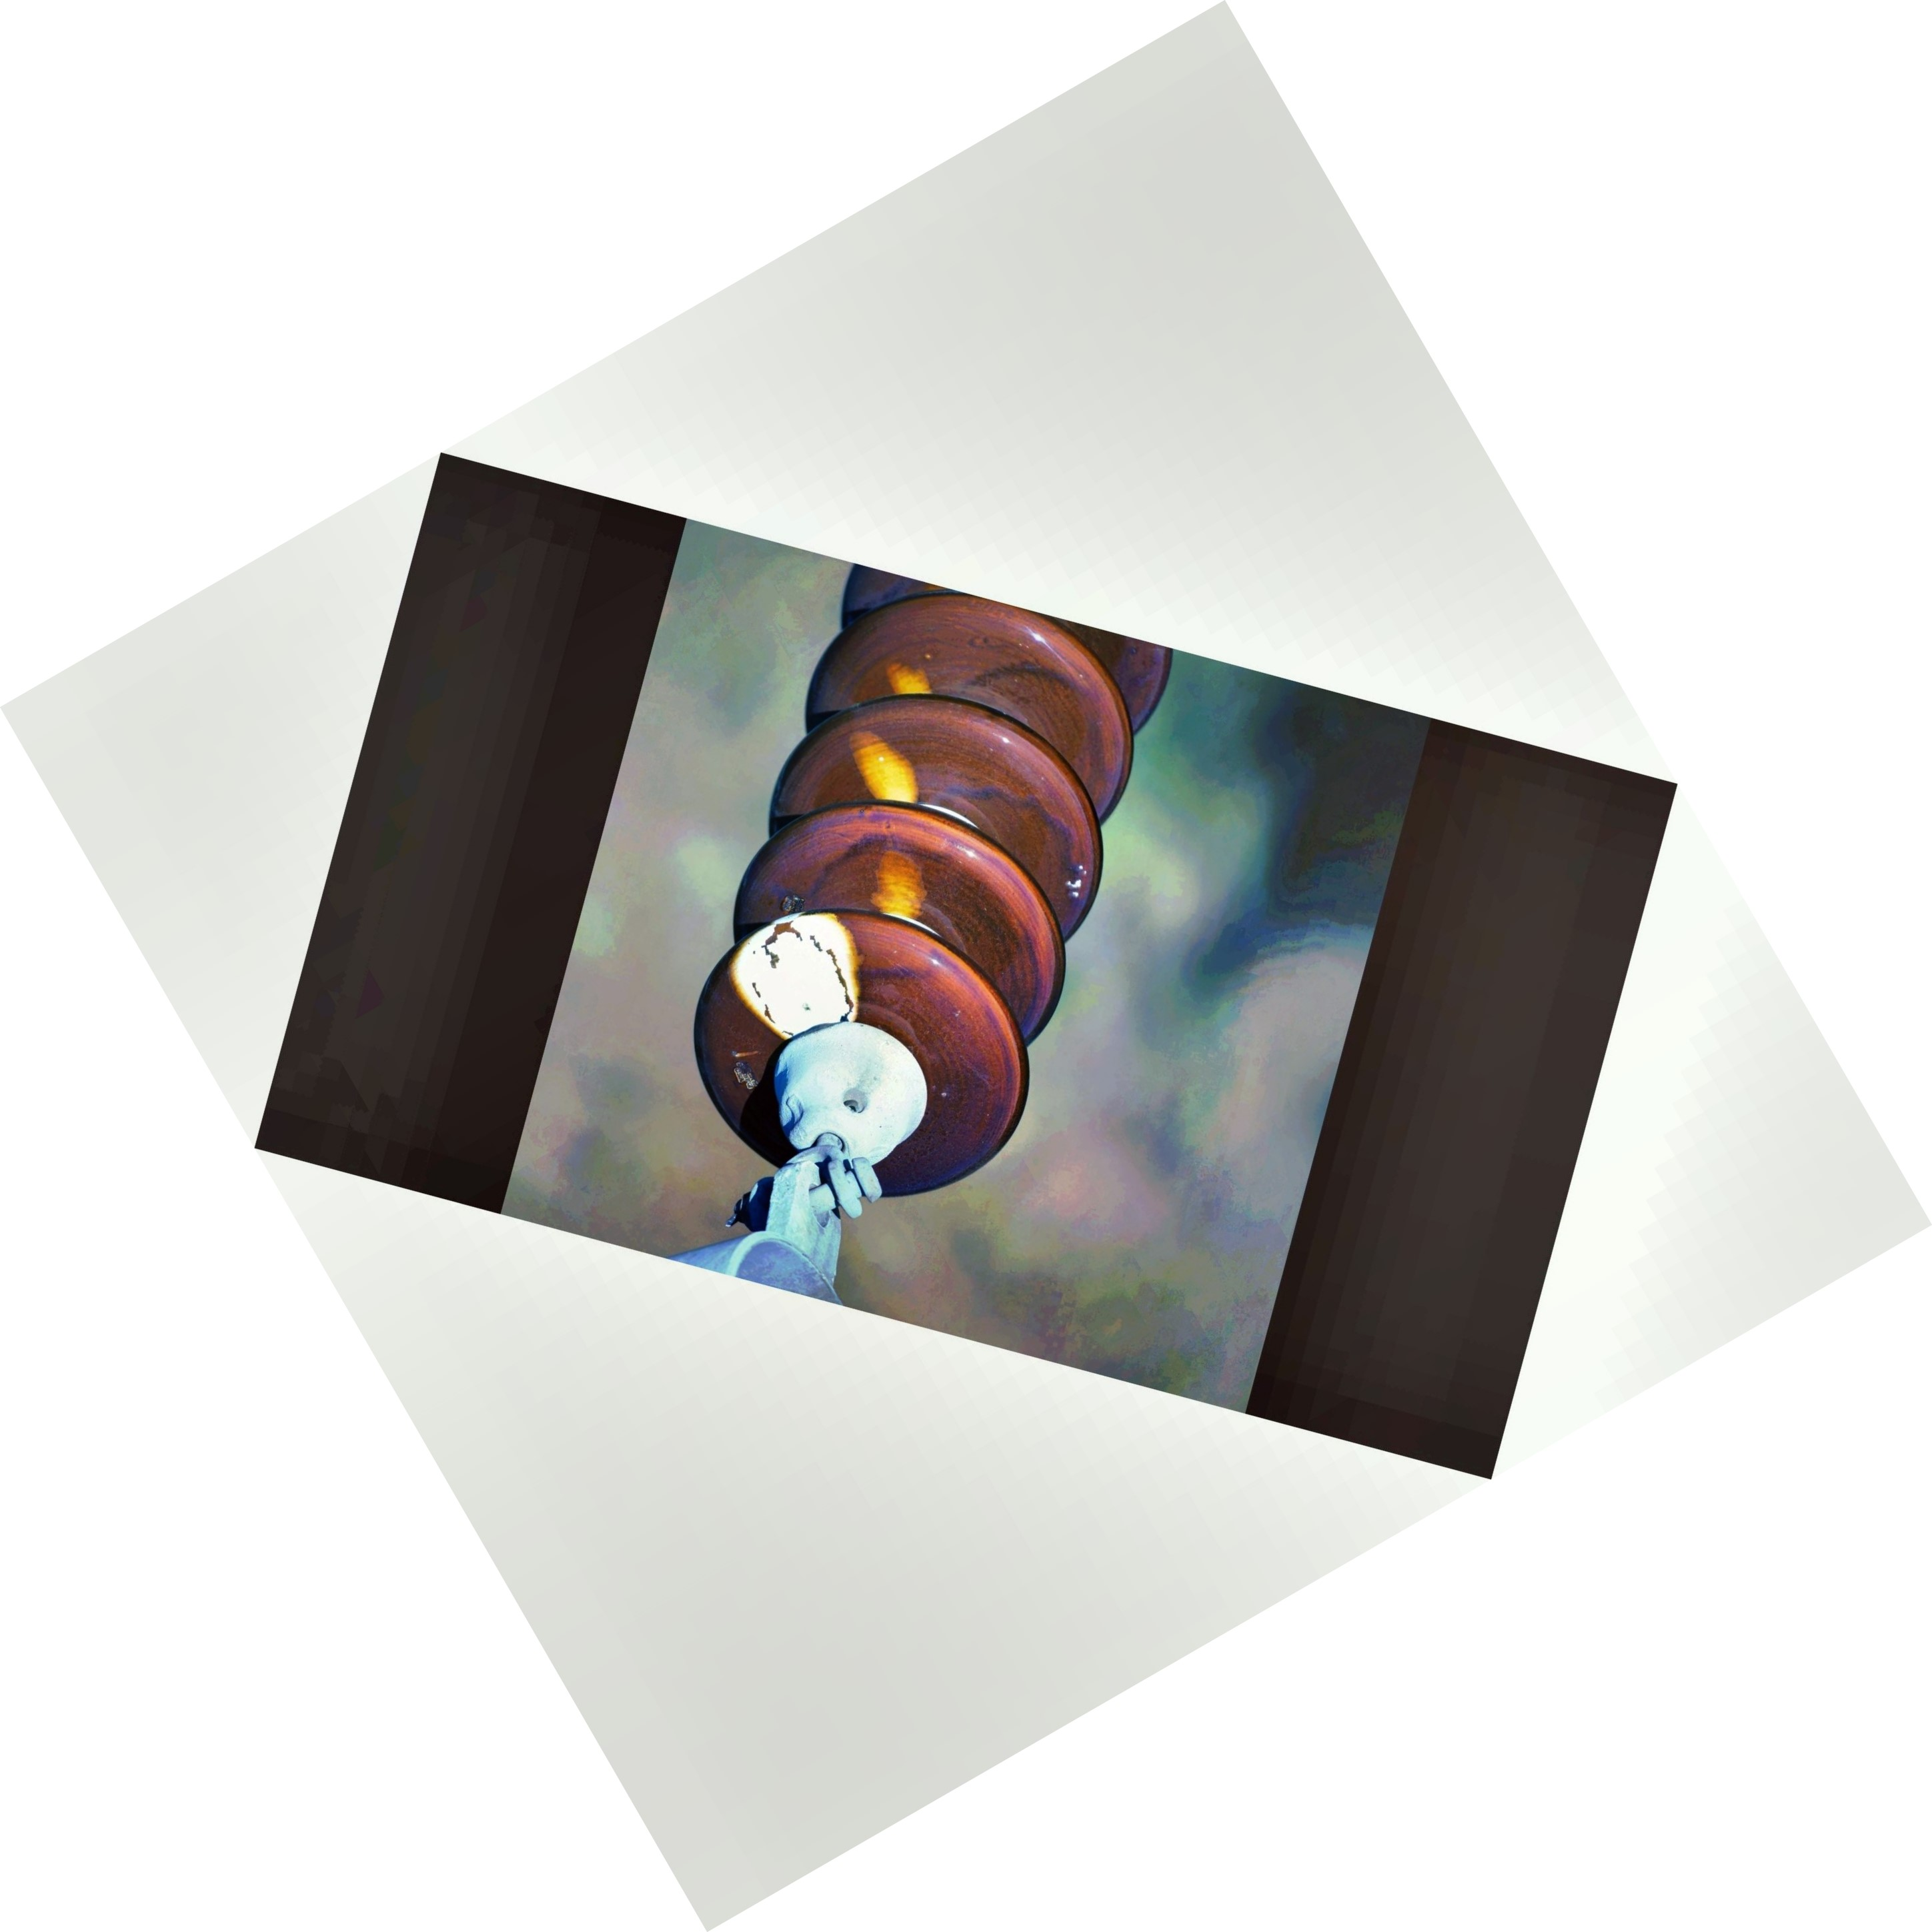Insulator flashover: (674, 895, 1044, 1226)
